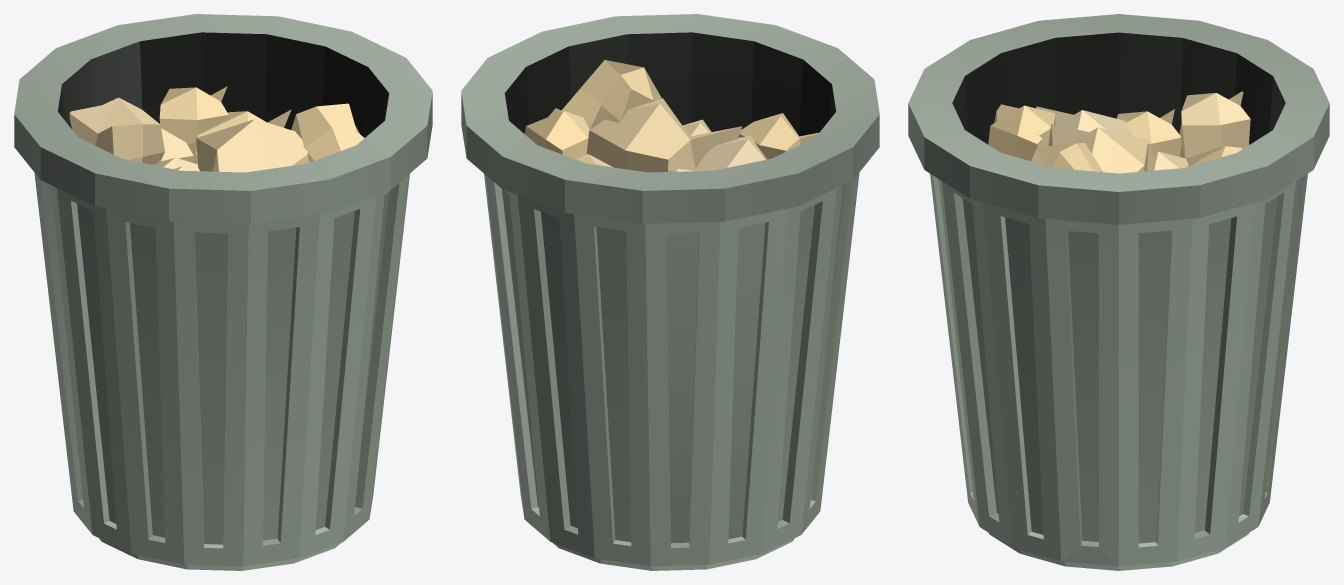
Rendered from SM_Papelera.fbx.
3 renders of one model, left to right at view 1: azimuth 30°, elevation 25°; view 2: azimuth 150°, elevation 25°; view 3: azimuth 270°, elevation 25°, orthographic.
Visible parts, largest first — view 1: Cylinder.001, Cube.009, Cube.007, Cube.003, Cube.001, Cube.004, Cube.005; view 2: Cylinder.001, Cube.009, Cube.001, Cube, Cube.012, Cube.013; view 3: Cylinder.001, Cube.007, Cube.009, Cube.012, Cube.006, Cube.001, Cube.013, Cube.010.
Boxes of the visible parts, x1=… form: Cylinder.001: x1=14, y1=14, x2=432, y2=570; Cube.009: x1=196, y1=119, x2=308, y2=172; Cube.007: x1=69, y1=97, x2=164, y2=164; Cube.003: x1=159, y1=86, x2=228, y2=163; Cube.001: x1=291, y1=103, x2=364, y2=162; Cube.004: x1=196, y1=109, x2=291, y2=164; Cube.005: x1=159, y1=128, x2=193, y2=162; Cylinder.001: x1=461, y1=14, x2=879, y2=570; Cube.009: x1=586, y1=98, x2=742, y2=172; Cube.001: x1=560, y1=60, x2=661, y2=129; Cube: x1=525, y1=108, x2=589, y2=159; Cube.012: x1=738, y1=113, x2=818, y2=159; Cube.013: x1=694, y1=135, x2=766, y2=171; Cylinder.001: x1=908, y1=14, x2=1329, y2=570; Cube.007: x1=1179, y1=91, x2=1250, y2=166; Cube.009: x1=1048, y1=123, x2=1148, y2=173; Cube.012: x1=988, y1=104, x2=1055, y2=161; Cube.006: x1=1116, y1=109, x2=1181, y2=156; Cube.001: x1=1031, y1=143, x2=1102, y2=171; Cube.013: x1=1036, y1=106, x2=1130, y2=146; Cube.010: x1=1147, y1=151, x2=1188, y2=170.
Size of the model in its own units: 36.82 by 39.41 by 36.82.
